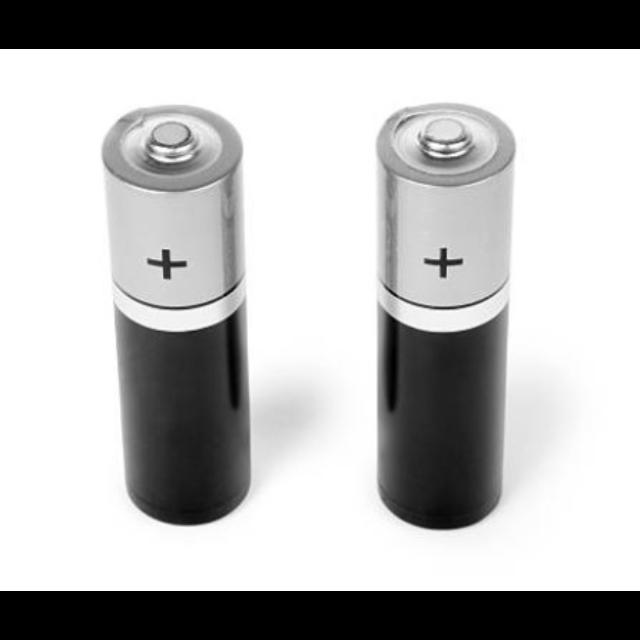Battery: (97, 105, 252, 529), (374, 102, 520, 532)
